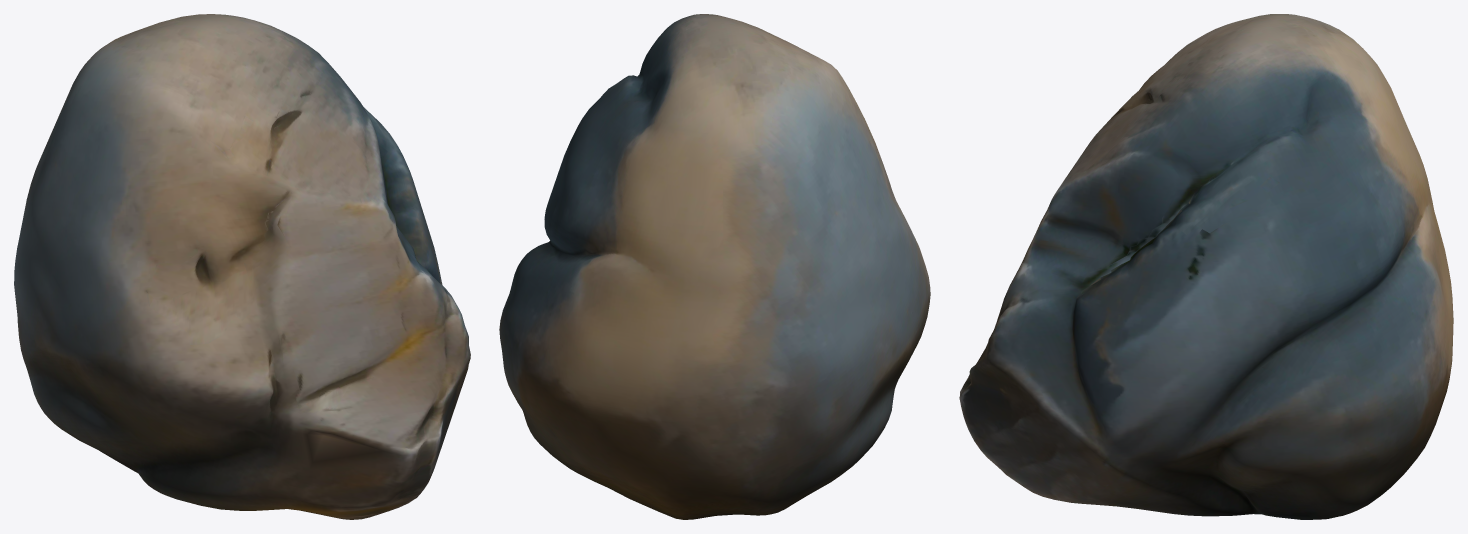
File: large_rock_realistic_style_8c363a1f_v2.glb
The picture shows the model from 3 angles, left to right: view 1: azimuth 30°, elevation 25°; view 2: azimuth 150°, elevation 25°; view 3: azimuth 270°, elevation 25°; orthographic projection.
Parts seen in each view (by area): view 1: material; view 2: material; view 3: material.
Part boxes in pixels (<box>): material: <box>14,14,470,519</box>; material: <box>499,14,930,519</box>; material: <box>959,14,1453,519</box>.
Bounding box in the file's own units: 1.56 × 1.89 × 1.9.
1 material, 1 textured.
